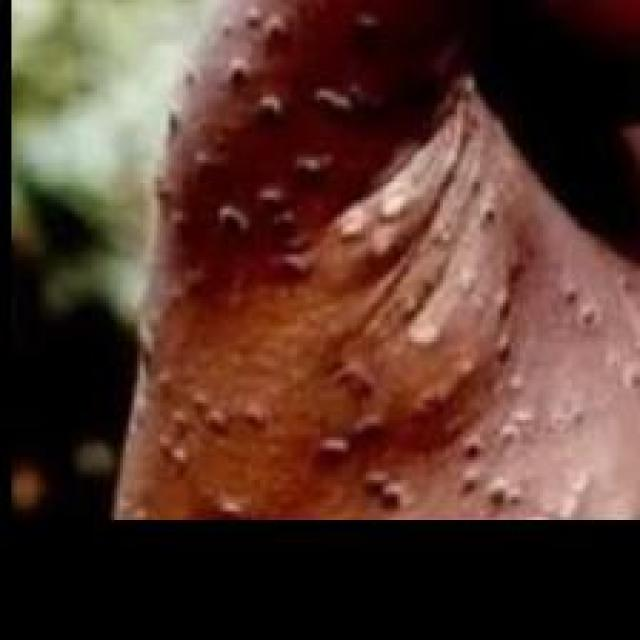monkeypox: (96, 18, 640, 516)
